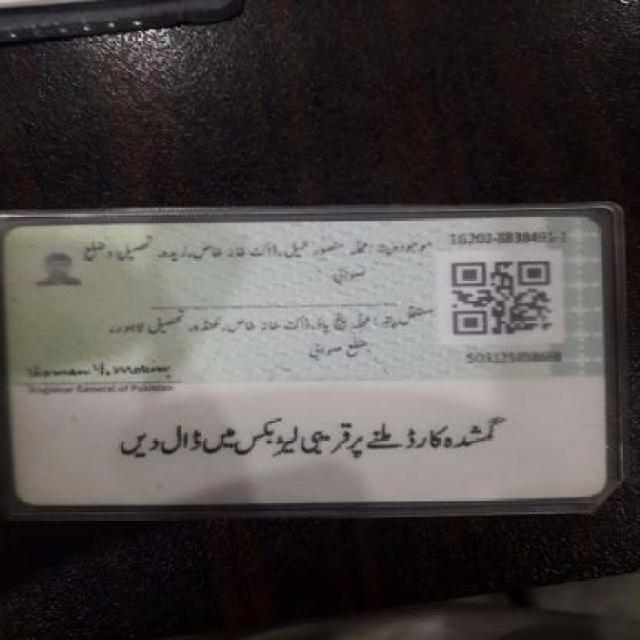Back: (11, 216, 615, 504)
